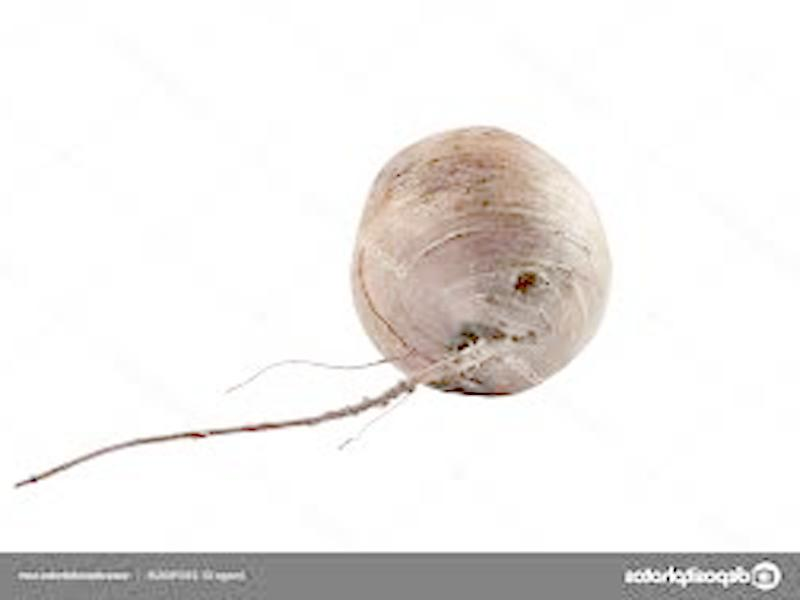Beet: (12, 129, 609, 489)
